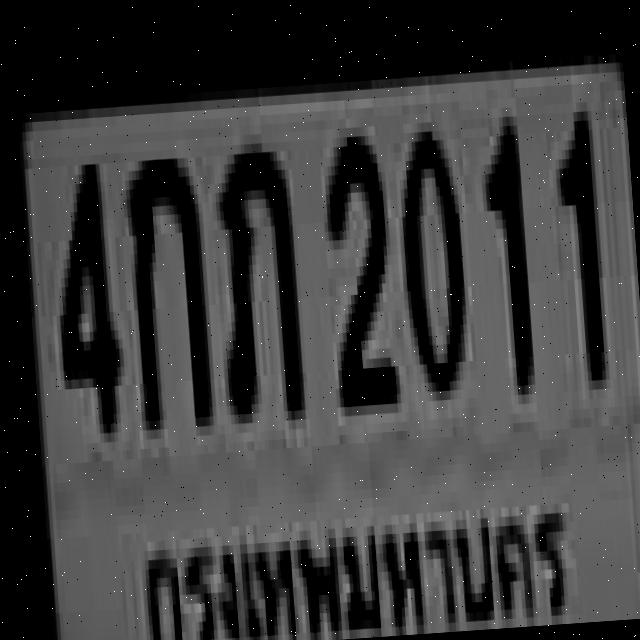0: (392, 120, 468, 392)
1: (476, 106, 532, 386), (551, 106, 605, 377)
10GorGai: (123, 147, 209, 420)
2: (316, 125, 394, 398)
4: (45, 154, 121, 426)
41PhorSamPhao: (208, 132, 302, 415)
Bangkok: (133, 474, 576, 640)
